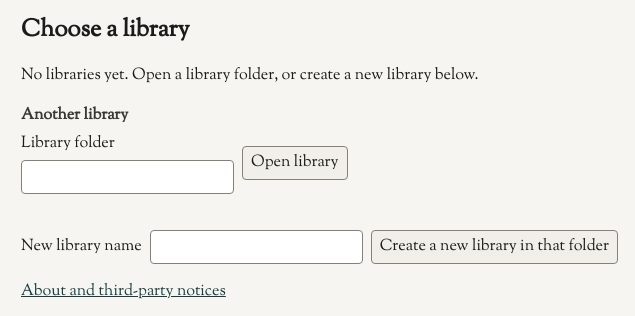
Test: LibraryChooser › R447: an answer for a path the box no longer holds is dropped
Expected: the text "No libraries yet" is shown, [21,64,479,87]
Type "/first" into the field labelled "Library folder". click: (128,177)
box: [21,160,234,194]
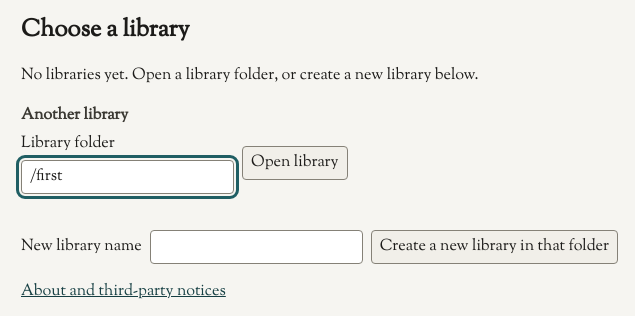
Replace the text in the field labelled "Library folder" with "/second". click: (128,177)
box: [21,160,234,194]
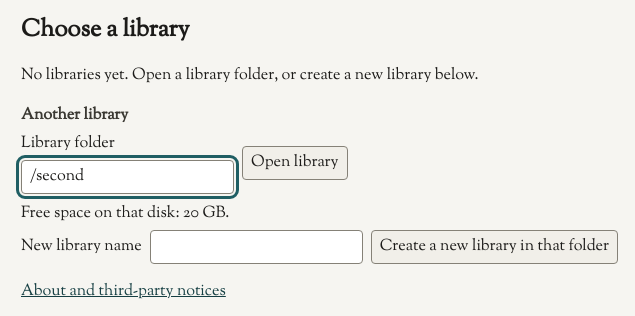
Result: the text "Free space on that disk: 20 GB." is shown at [21,202,229,225]
